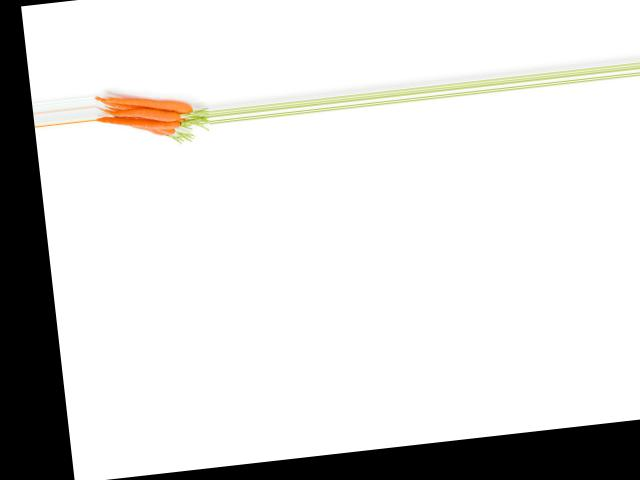carrot: (96, 89, 195, 117)
